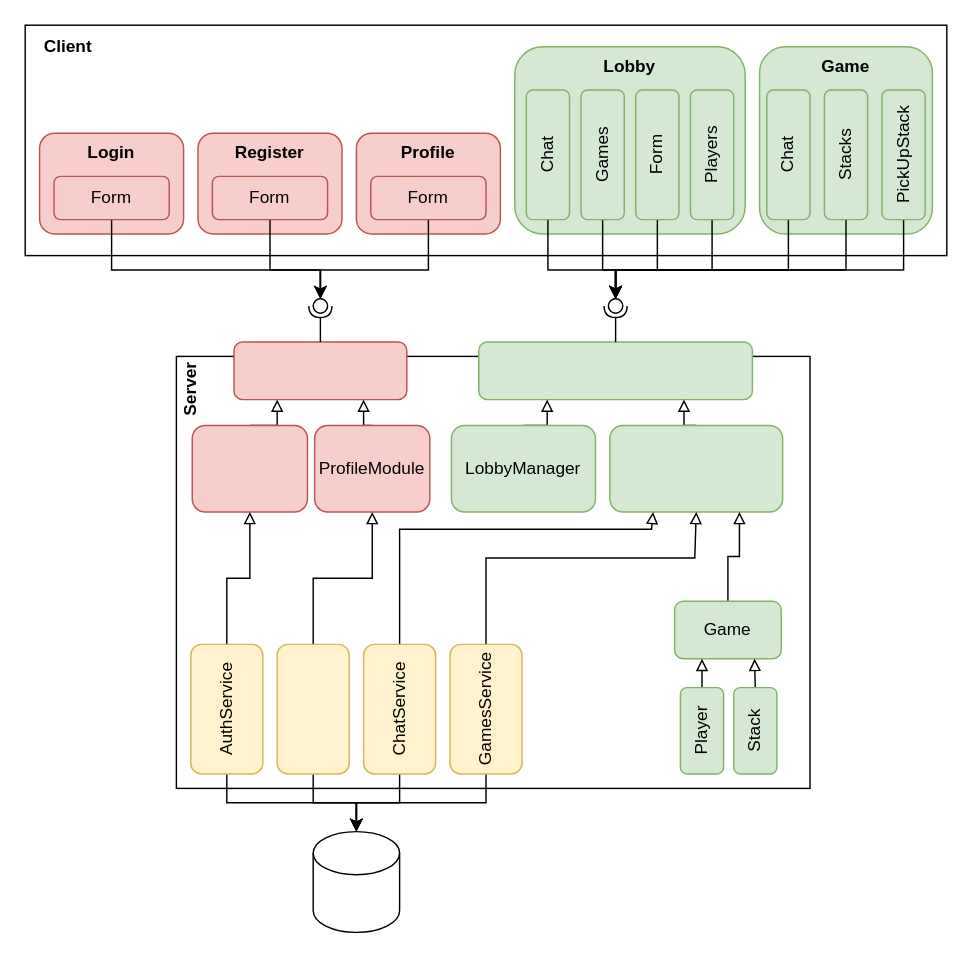
Image size: 972x958. Some labels were removed from this diagram. The shapes that lost their labels are listed below. From the top down, each one's centre as x and y in pixels, then its label:
At point 320,370: "REST".
At point 614,370: "Websocket".
At point 249,468: "AuthModule".
At point 695,468: "GameManager".
At point 312,708: "ProfileService".
At point 356,881: "DB (Mongo)".
